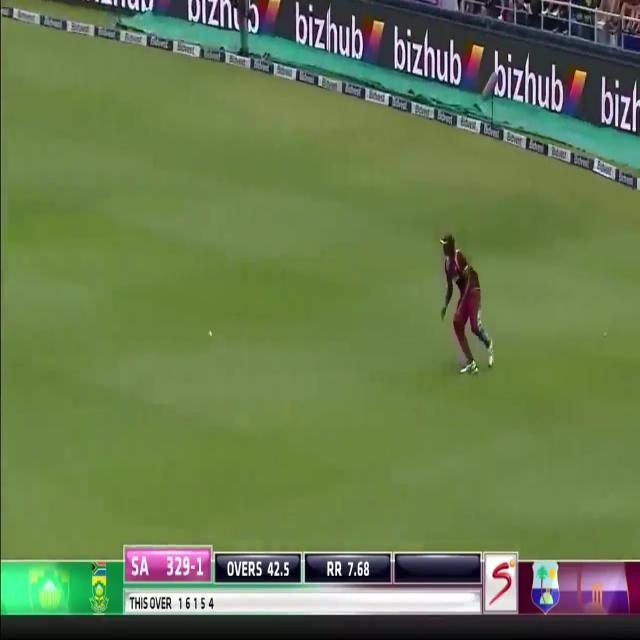Fielder: (435, 226, 494, 368)
